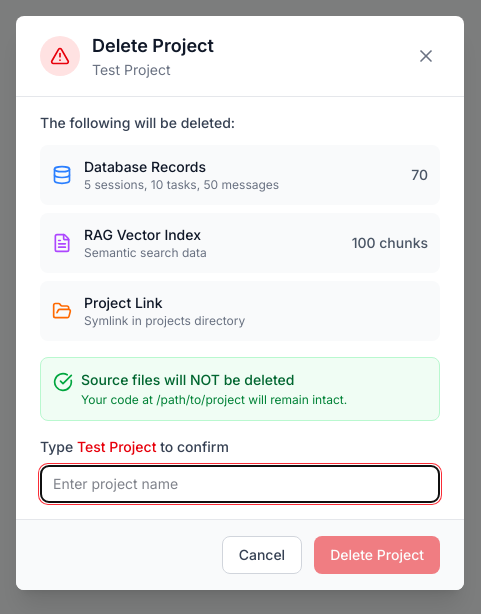
Test case: DeleteProjectModal › disables delete button until name matches
expect the button "Delete Project" is disabled: met, box left=314, top=536, right=440, bottom=574
Type "Test Project" into the field with placeholder "Enter project name". click: (240, 484)
box: left=40, top=465, right=440, bottom=503
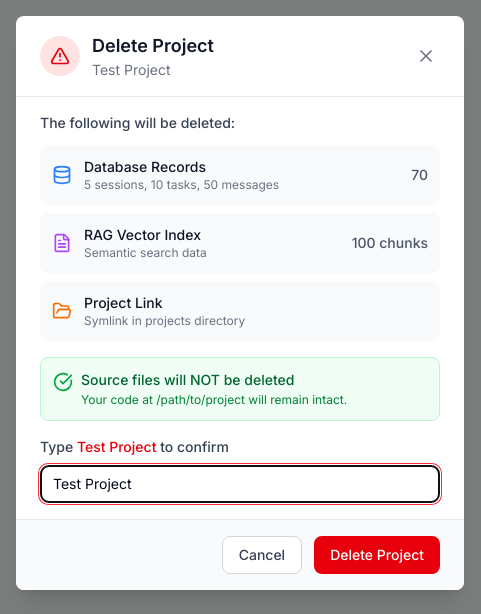
expect the button "Delete Project" is enabled: met, box left=314, top=536, right=440, bottom=574
